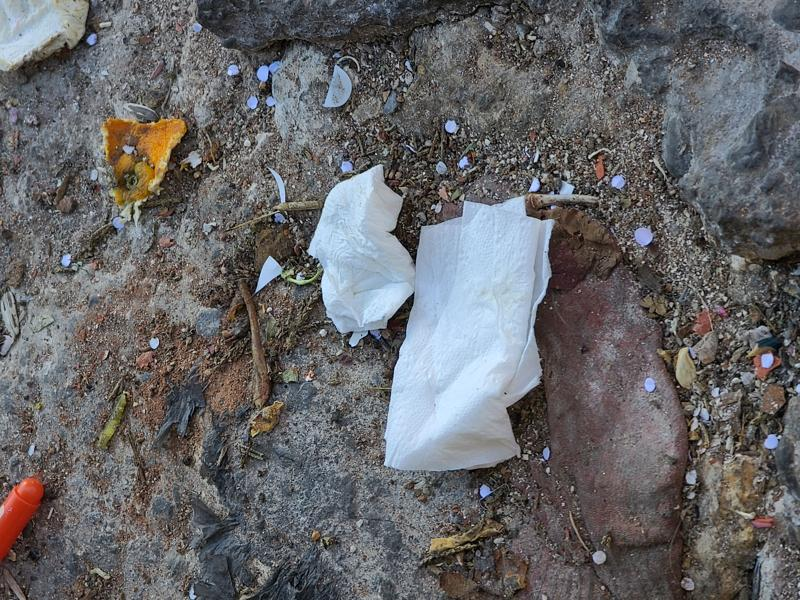papel: (315, 171, 554, 474)
